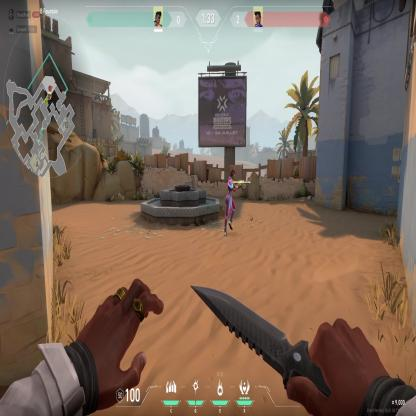enemy: (222, 167, 237, 239)
